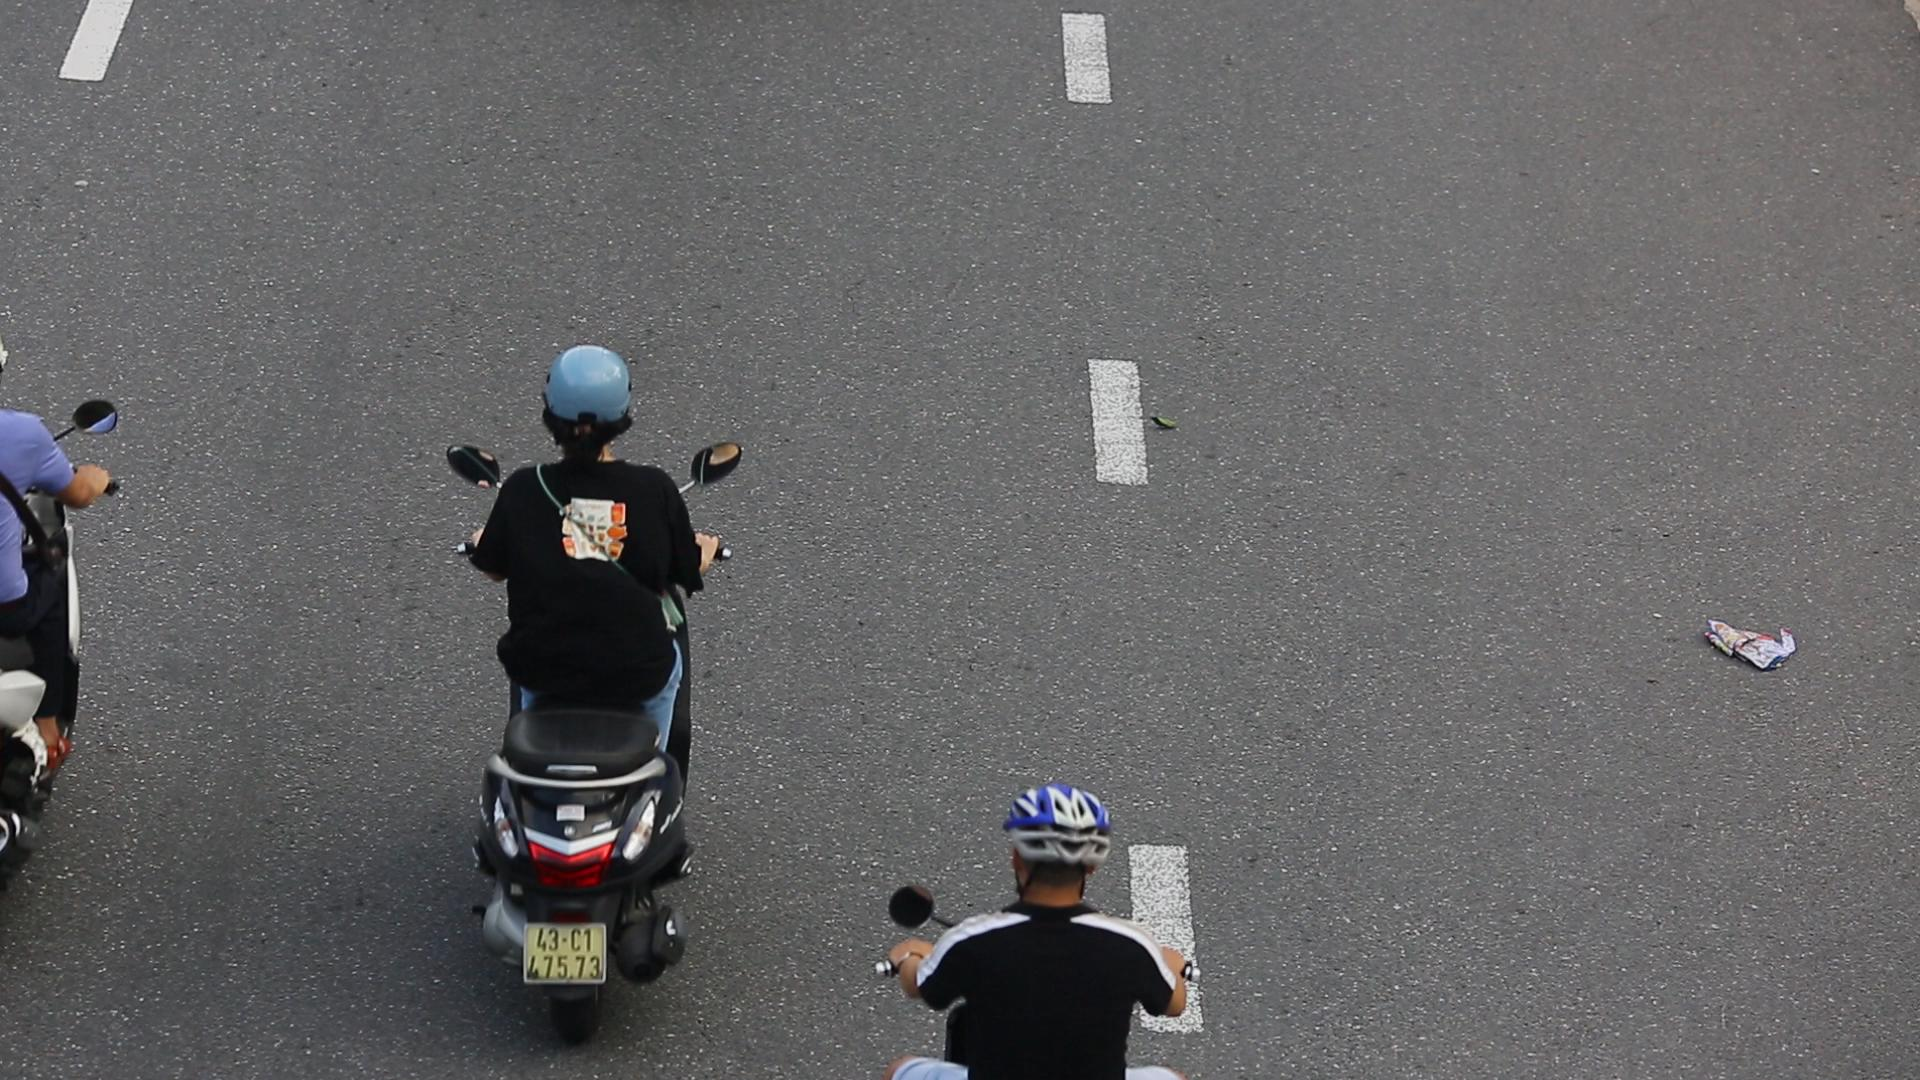motobike: (426, 332, 761, 1054)
